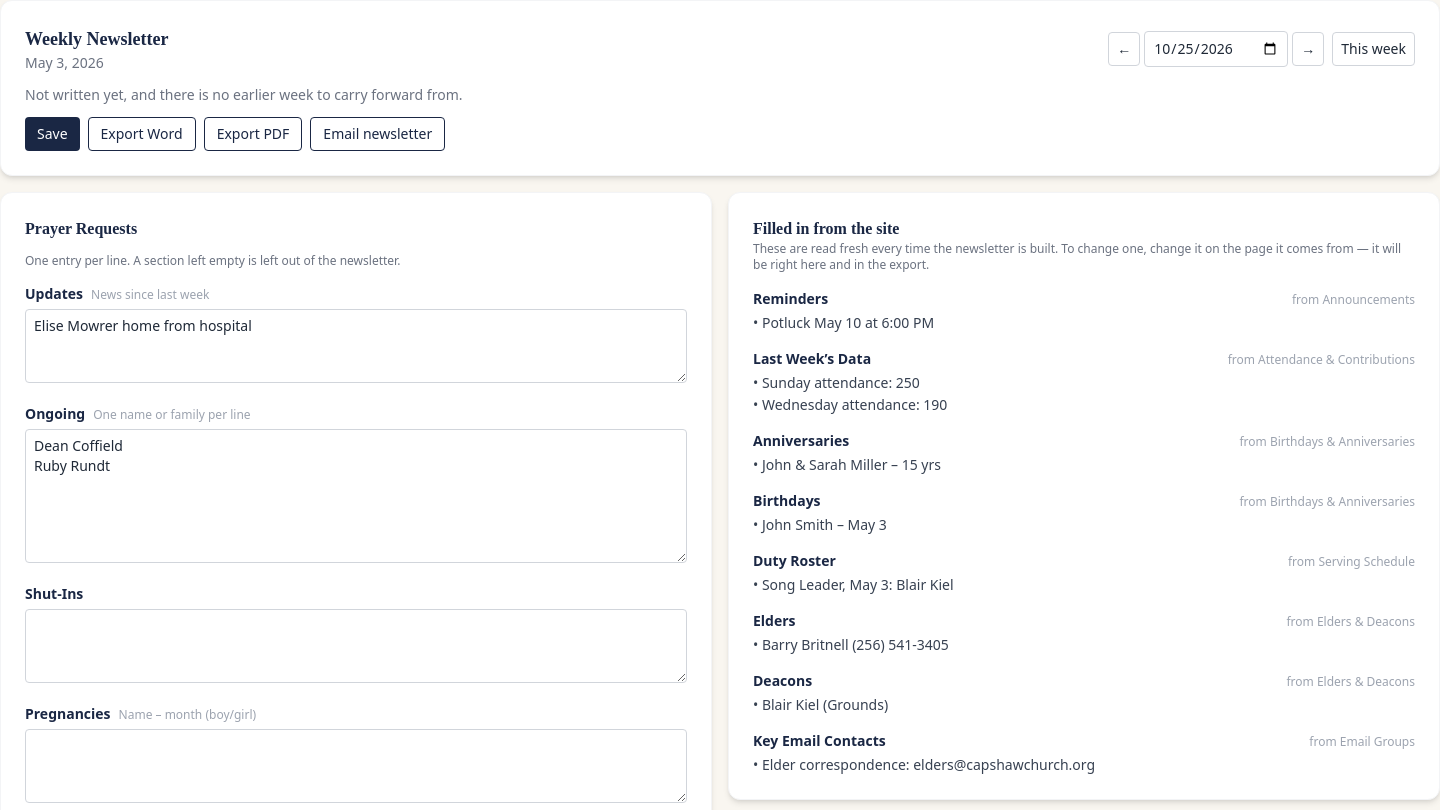
Test: the weekly newsletter screen › emailing it › a refusal from the server is shown
Click the button "Email newsletter": (378, 134) [310,117,445,151]
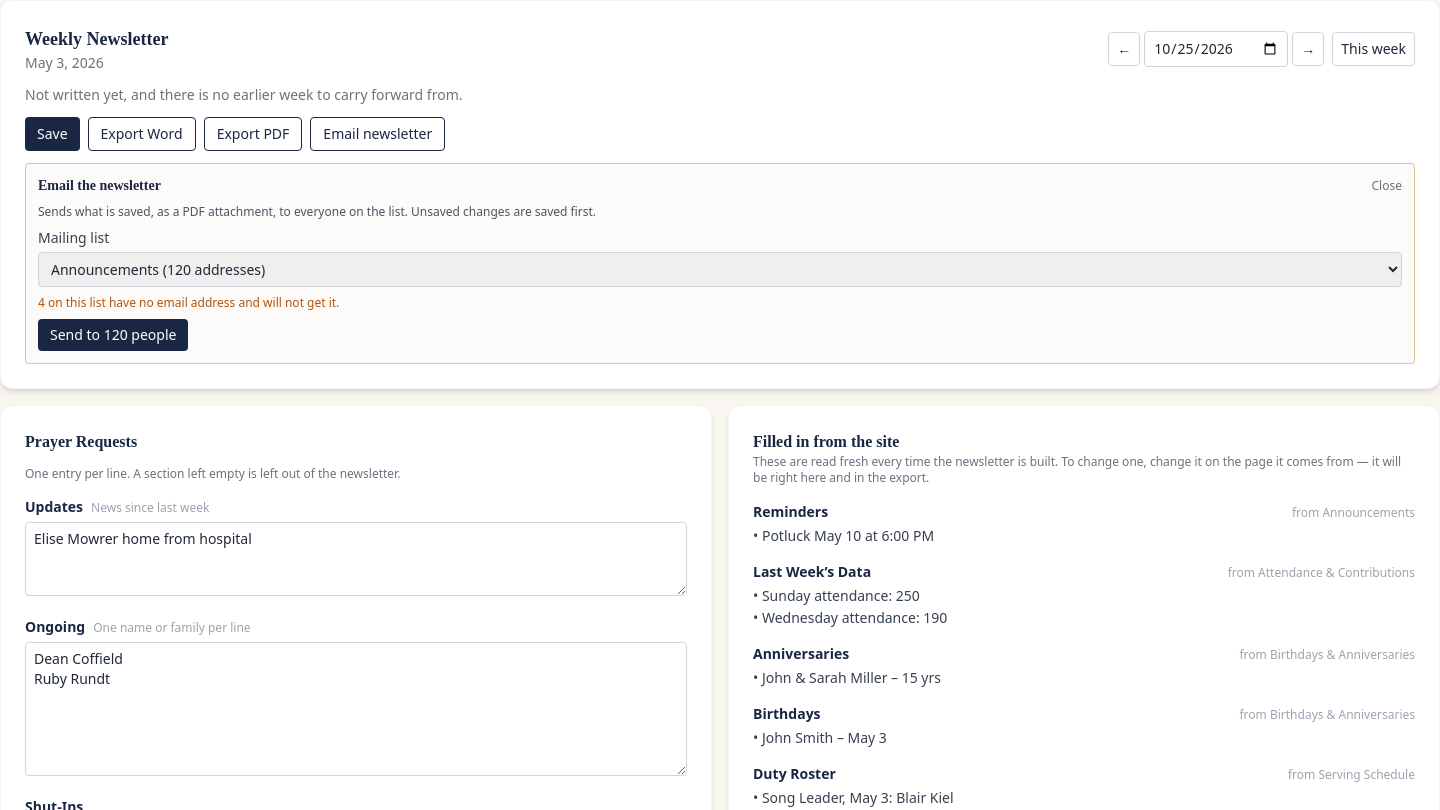
Click the button "Send to 120 people": (113, 335) [38,319,188,351]
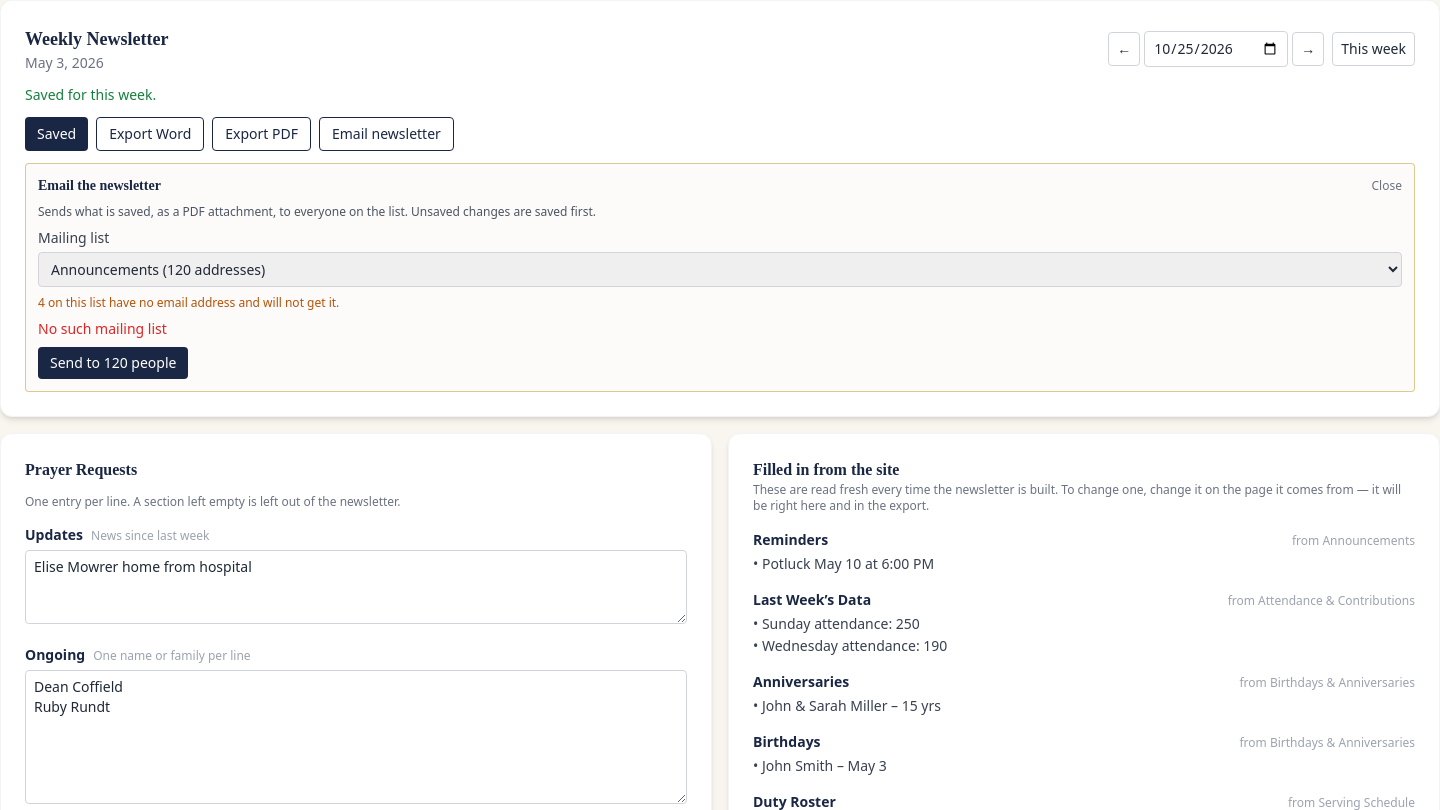
Expected: the text "No such mailing list" is shown, [38,319,167,338]
